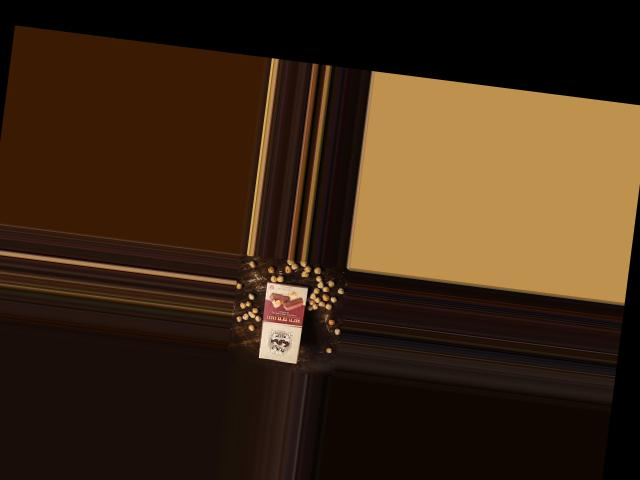chocolate: (255, 279, 312, 366)
